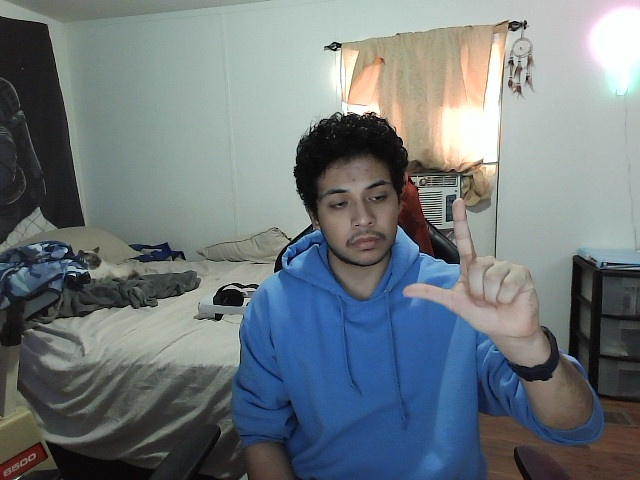L: (401, 193, 544, 339)
